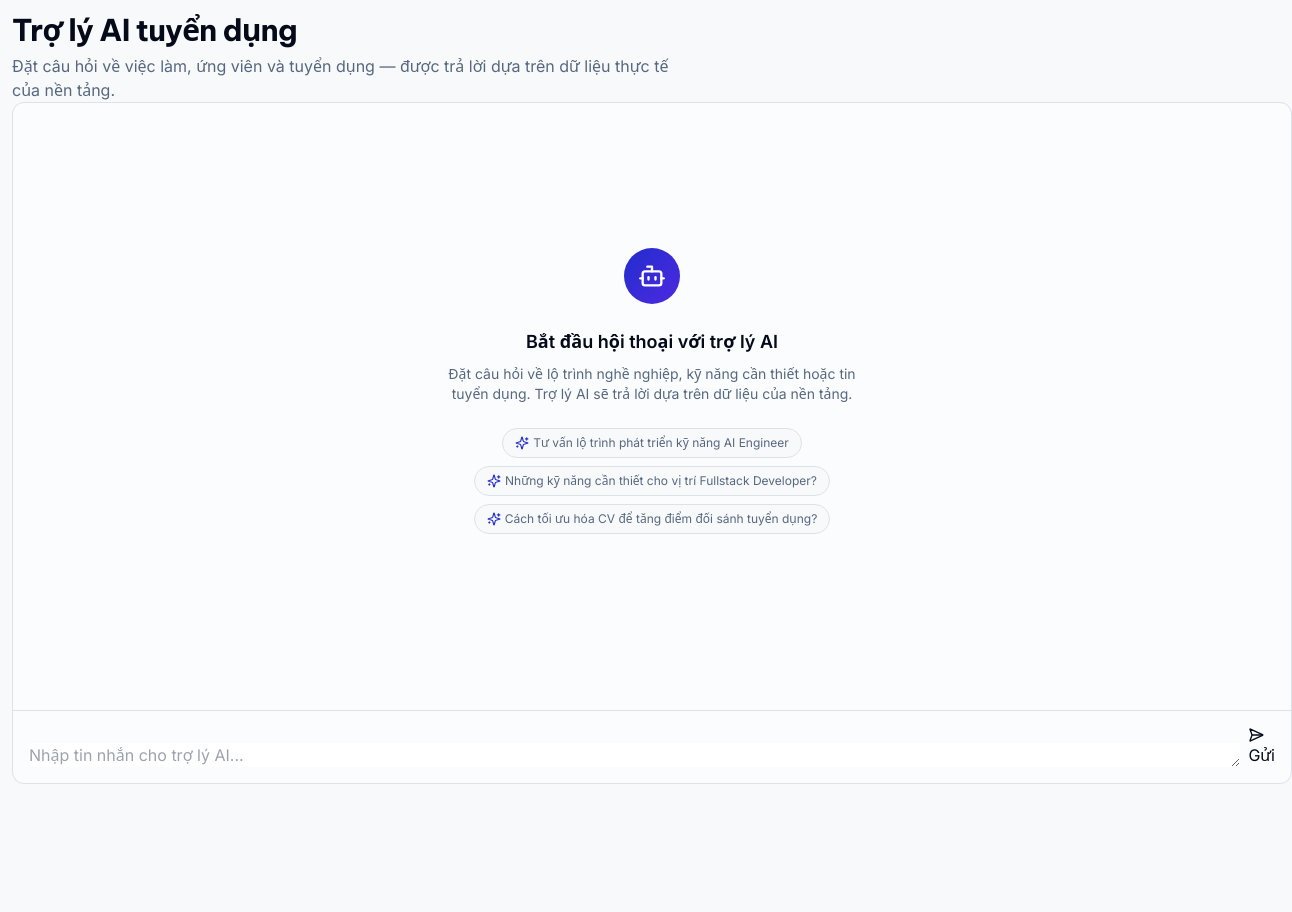
Test: AIChatPage › disables input while loading
(page scrolled)
Type "Câu hỏi" into the text box named "Tin nhắn chat" at (635, 755), box 29,743 -> 1240,767
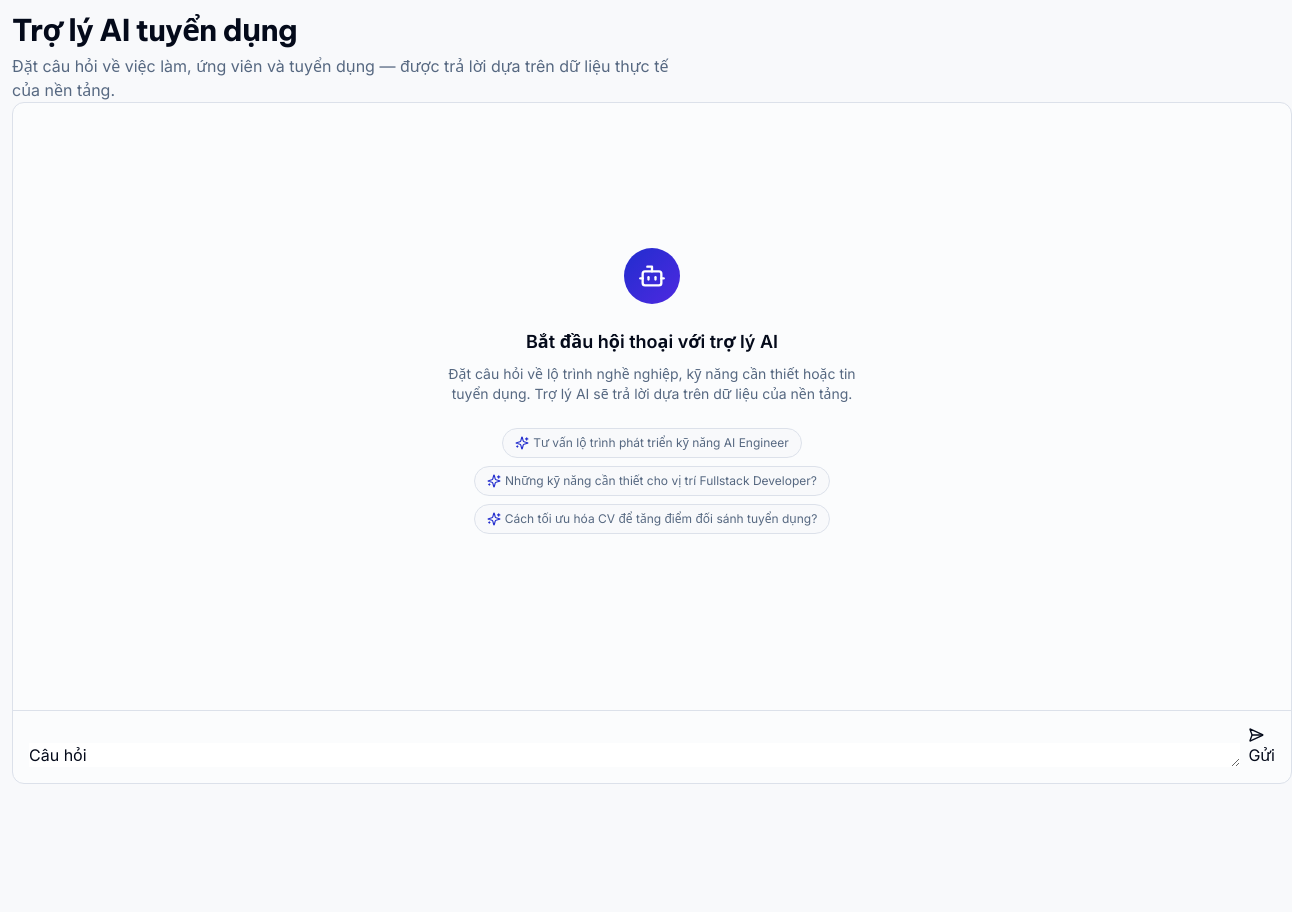
Click the button "Gửi" at (1262, 747), box 1248,727 -> 1275,767
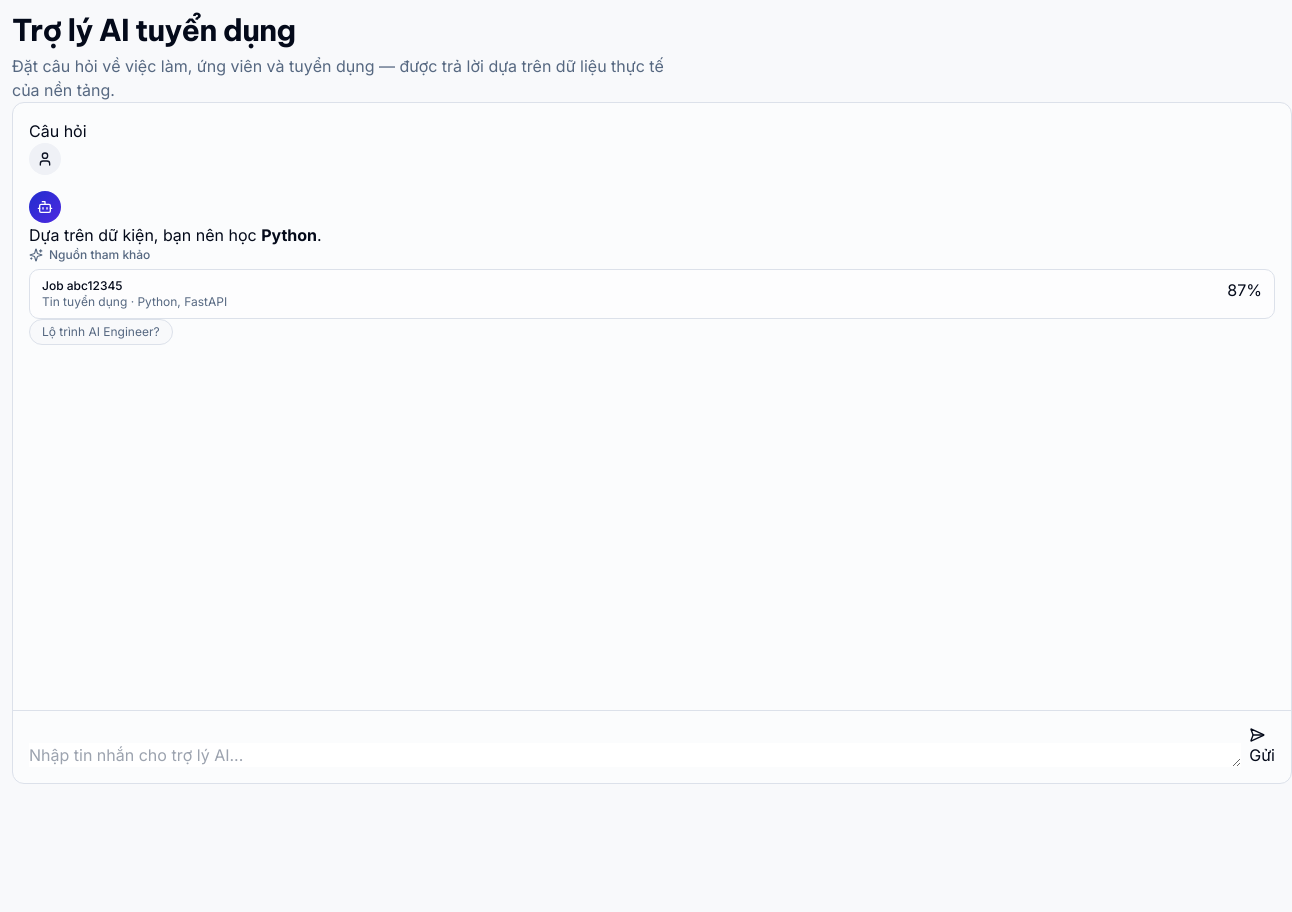
Expected: the button named "Đang gửi..." is disabled, 1249,727 -> 1275,767
